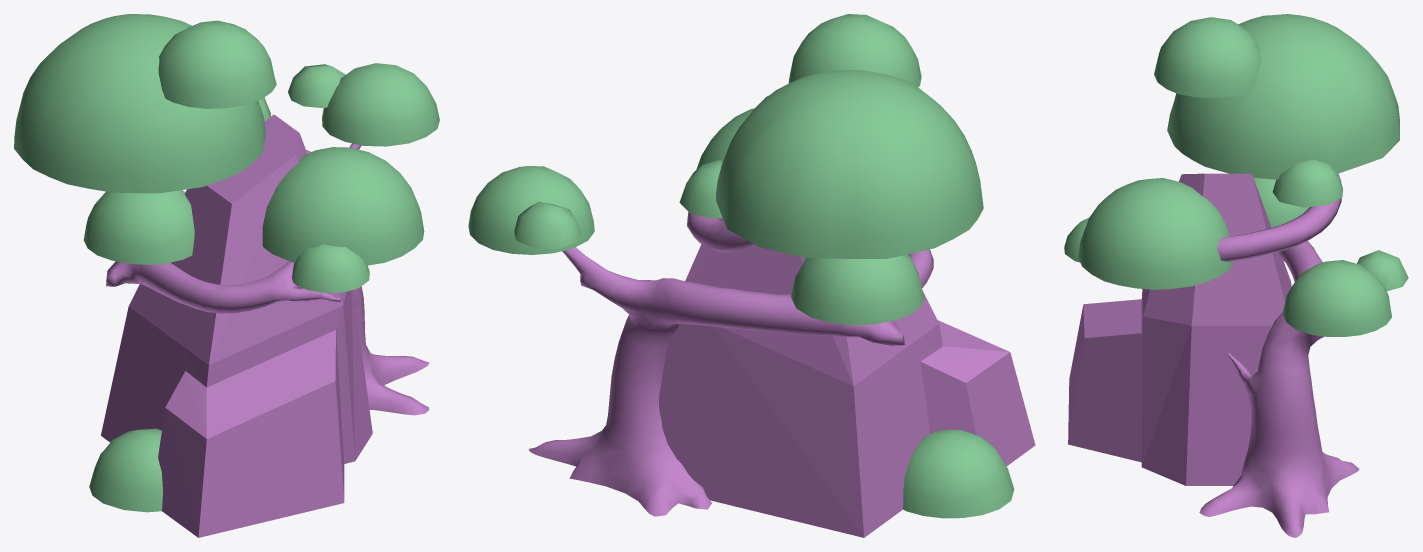
The model's file is ME_Tree+Rock.fbx.
3 views of the same model, side by side, from view 1: azimuth 30°, elevation 25°; view 2: azimuth 150°, elevation 25°; view 3: azimuth 270°, elevation 25° (orthographic). The views are drawn at different scales.
Parts seen in each view (by area): view 1: Object001; view 2: Object001; view 3: Object001.
Part boxes in pixels (<box>): Object001: <box>14,14,439,537</box>; Object001: <box>468,14,1035,537</box>; Object001: <box>1064,14,1408,537</box>.
Size of the model in its own units: 126 by 122 by 95.22.
